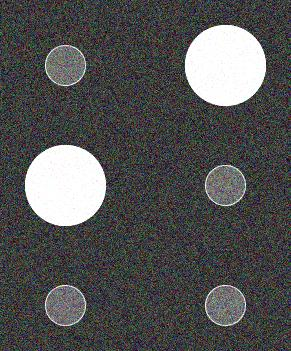I: (18, 19, 273, 339)
